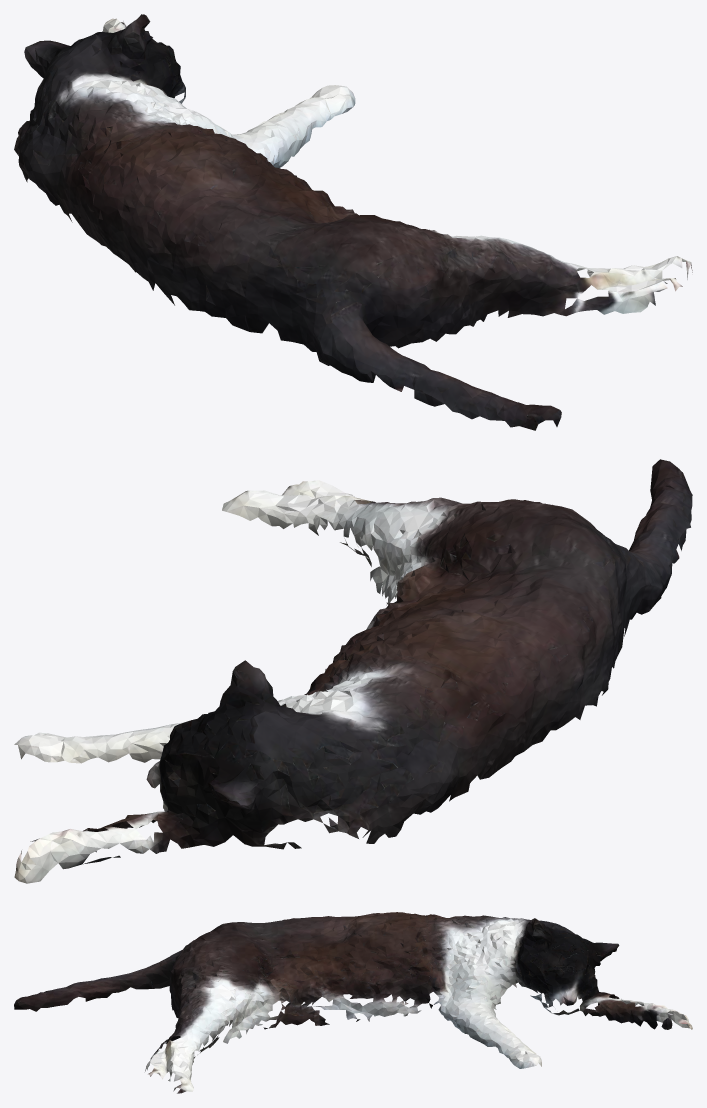
File: cat.glb
The picture shows the model from 3 angles, top to bottom: view 1: azimuth 30°, elevation 25°; view 2: azimuth 150°, elevation 25°; view 3: azimuth 270°, elevation 25°; orthographic projection. The views are drawn at different scales.
Visible parts, largest first — view 1: Object_2; view 2: Object_2; view 3: Object_2.
Part boxes in pixels (x1,y1,x2,y2): Object_2: [14, 14, 692, 430]; Object_2: [14, 459, 692, 883]; Object_2: [14, 912, 692, 1093].
Bounding box in the file's own units: 0.4833 × 0.1423 × 1.
1 material, 1 textured.
